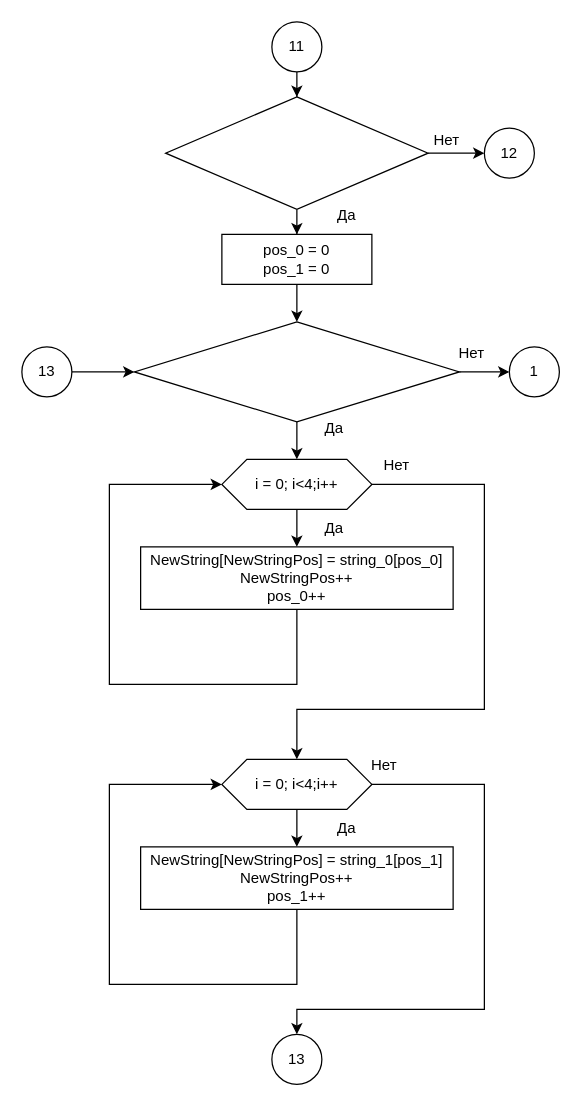
The diagram is 581 pixels wide and 1106 high, and some of its shapes have lost their labels. The centre of each missing label's shape, as x and y in pixels:
"LenString[0] = Lenstring[1] И LenString[0] - 1 кратно 4" goes at [296,152].
"NewStringPos < LenString[0]*2" goes at [296,371].
